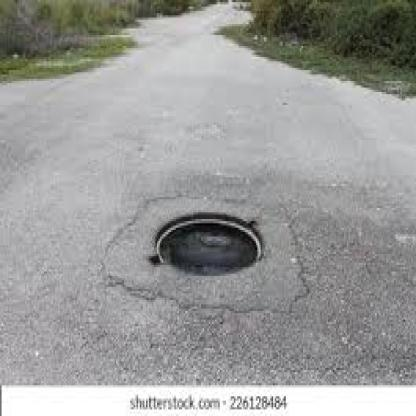closed manhole-not overflowing-: (148, 197, 266, 279)
